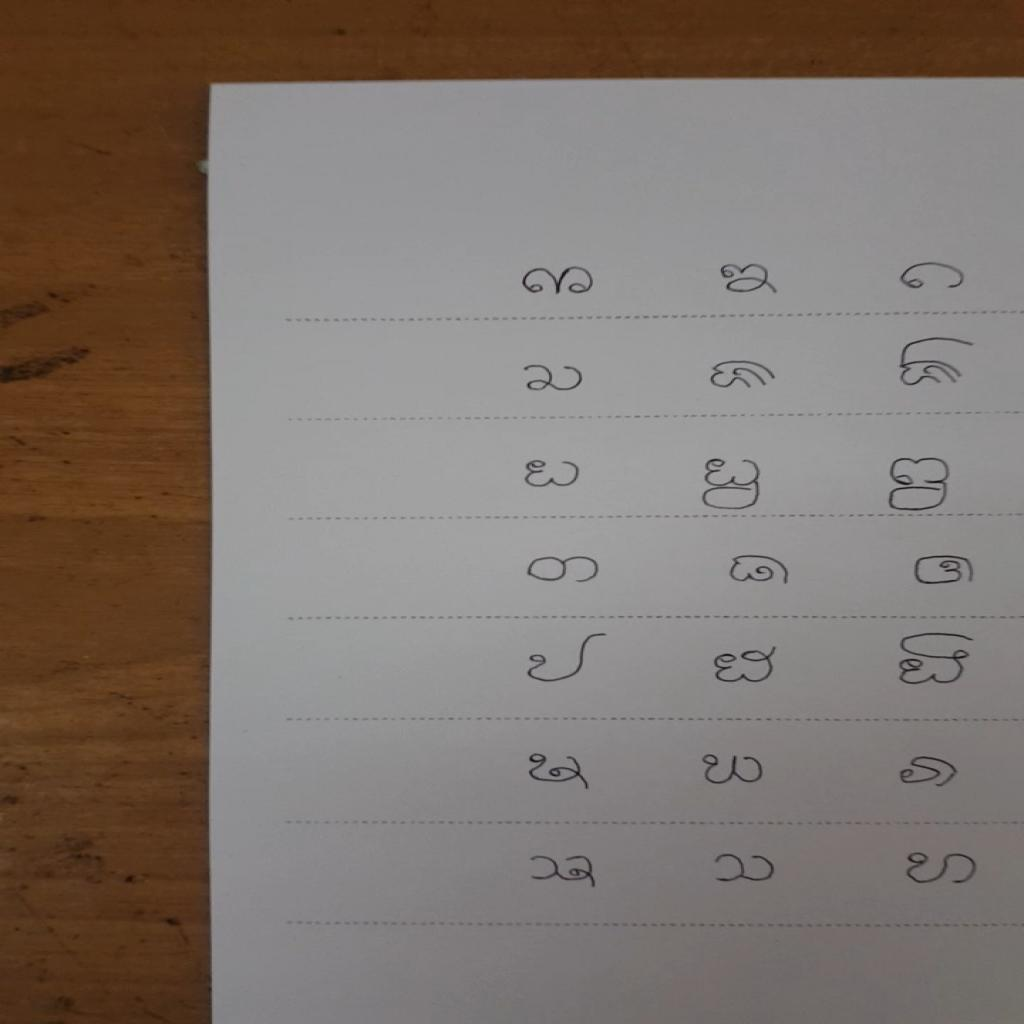LN001: (518, 263, 599, 300)
LN002: (717, 262, 783, 298)
LN003: (897, 261, 970, 293)
LN007: (521, 361, 588, 395)
LN008: (706, 357, 780, 393)
LN009: (895, 335, 978, 390)
LN013: (521, 457, 583, 490)
LN014: (698, 456, 766, 514)
LN015: (884, 454, 953, 514)
LN019: (525, 553, 604, 587)
LN020: (726, 553, 793, 588)
LN021: (910, 554, 978, 589)
LN025: (525, 632, 610, 687)
LN026: (709, 645, 781, 686)
LN027: (895, 632, 977, 688)
LN031: (524, 751, 591, 793)
LN032: (699, 752, 768, 787)
LN033: (895, 754, 962, 791)
LN037: (524, 851, 599, 889)
LN038: (710, 852, 779, 888)
LN039: (903, 850, 981, 889)
